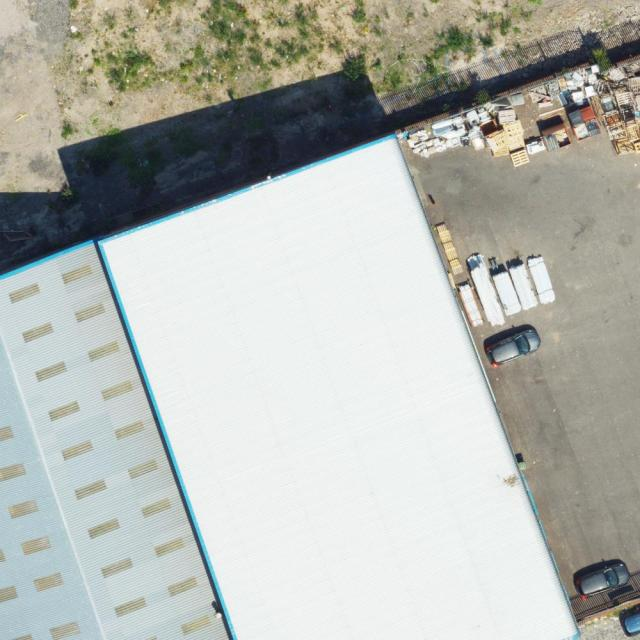roof: (0, 133, 580, 640)
